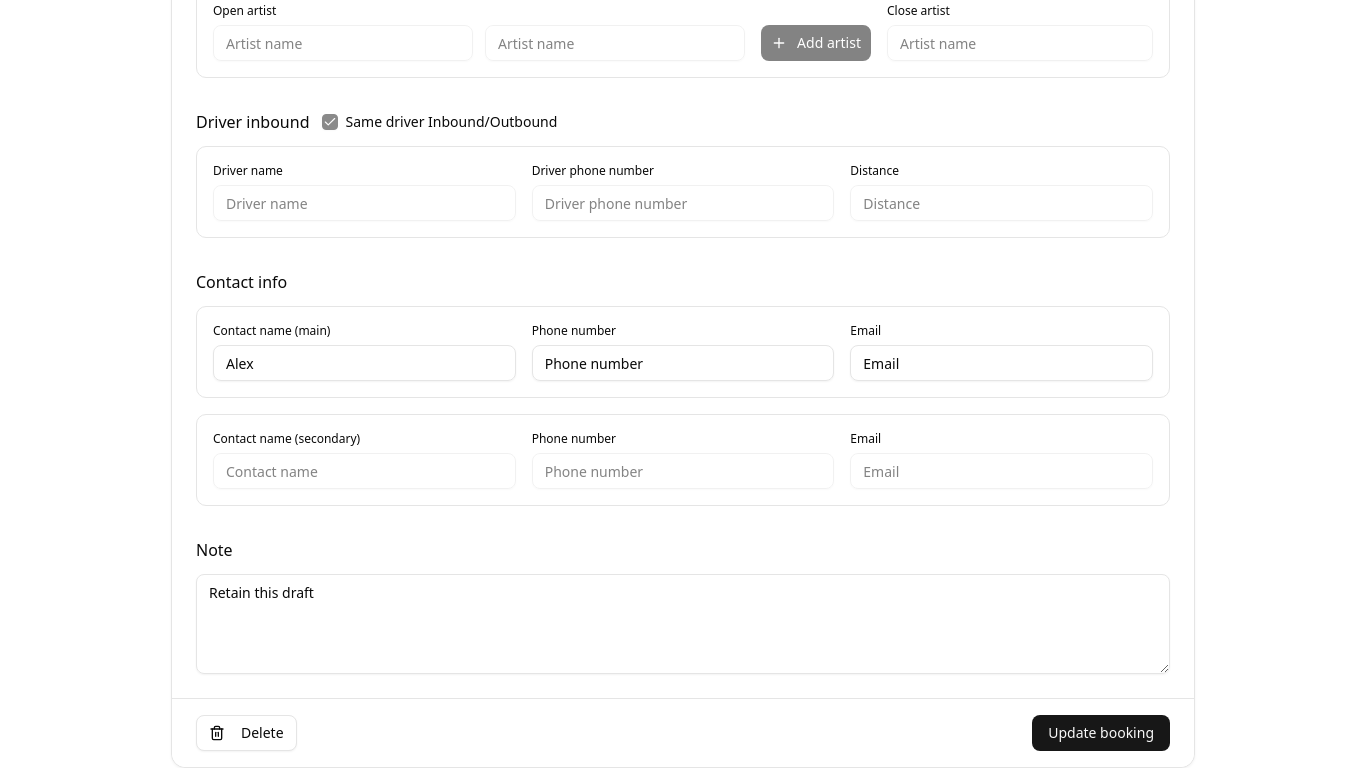
Test case: BB-11: handles returned delete failure, retains edits, and permits one retry
(page scrolled)
Replace the text in the text box labelled "Note" with "Unsaved operator draft": coordinates (683, 624) [196,574,1170,674]
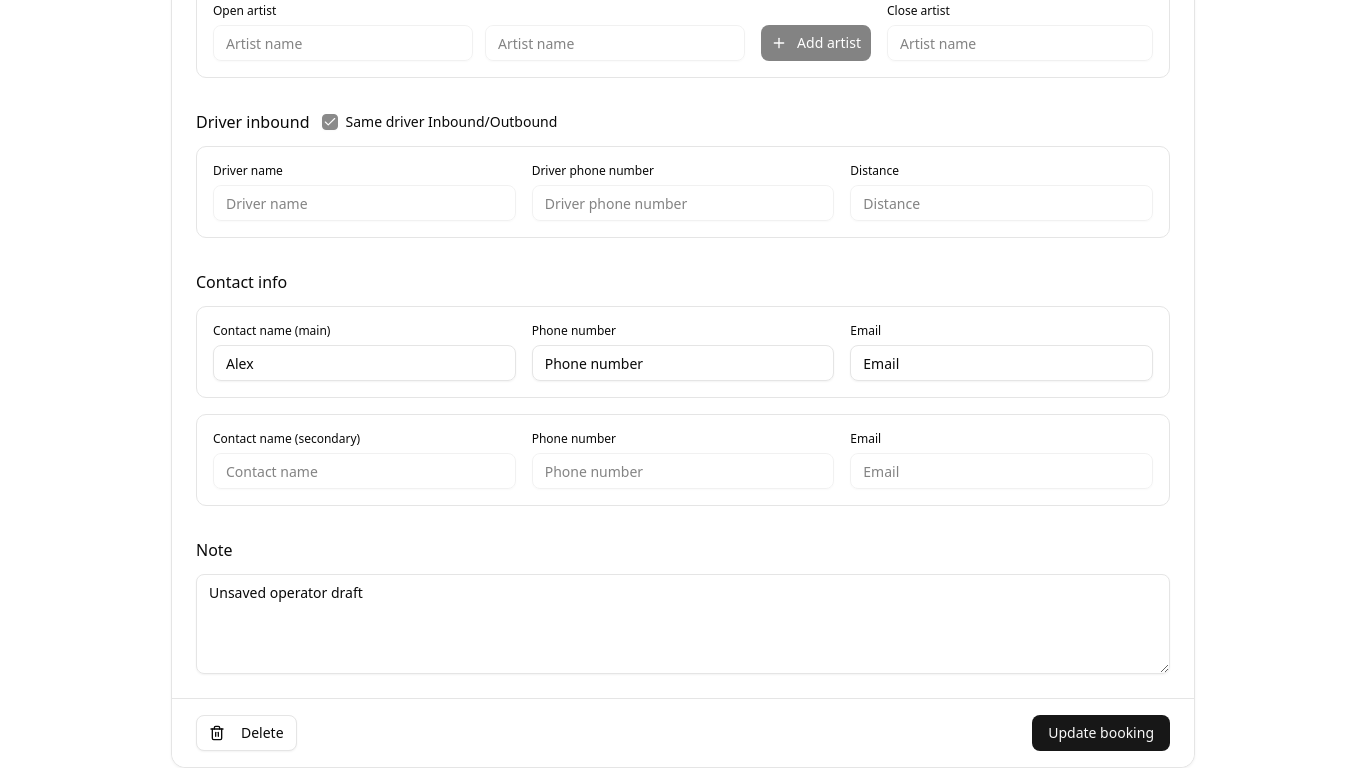
Click the button "Delete": coordinates (246, 733) [196,715,297,751]
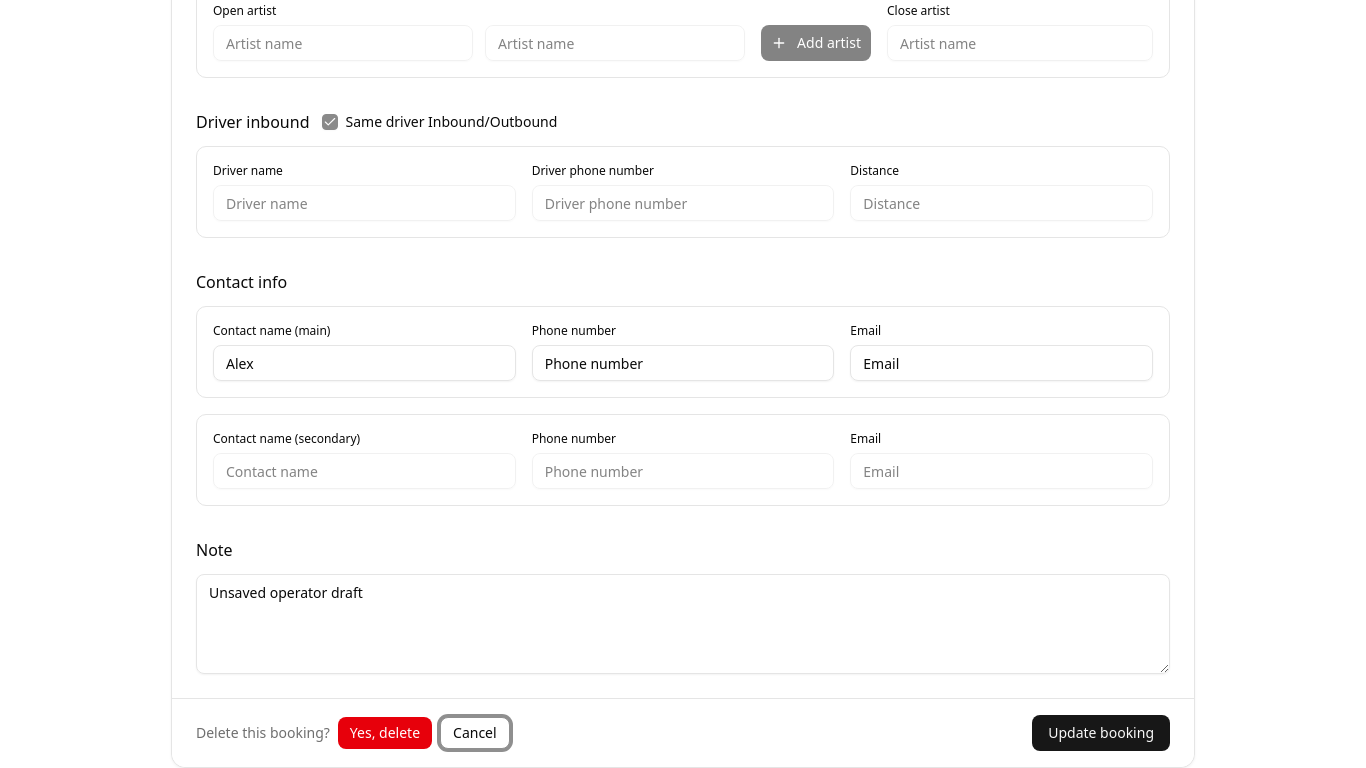
Click the button "Yes, delete": coordinates (385, 733) [338,717,432,749]
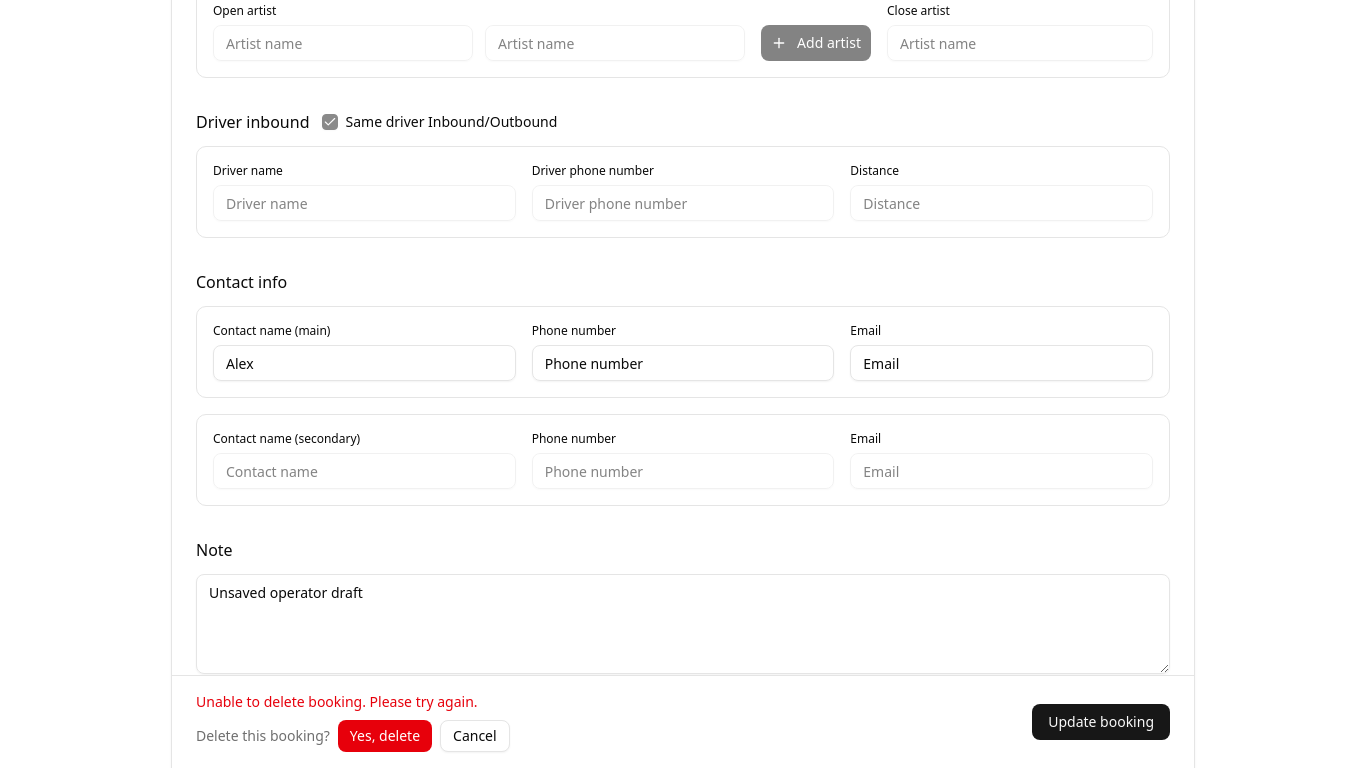
Now the button "Yes, delete" is enabled
Now the message shows "Unable to delete booking", box [196,692,478,711]
Click the button "Yes, delete": coordinates (385, 736) [338,720,432,752]
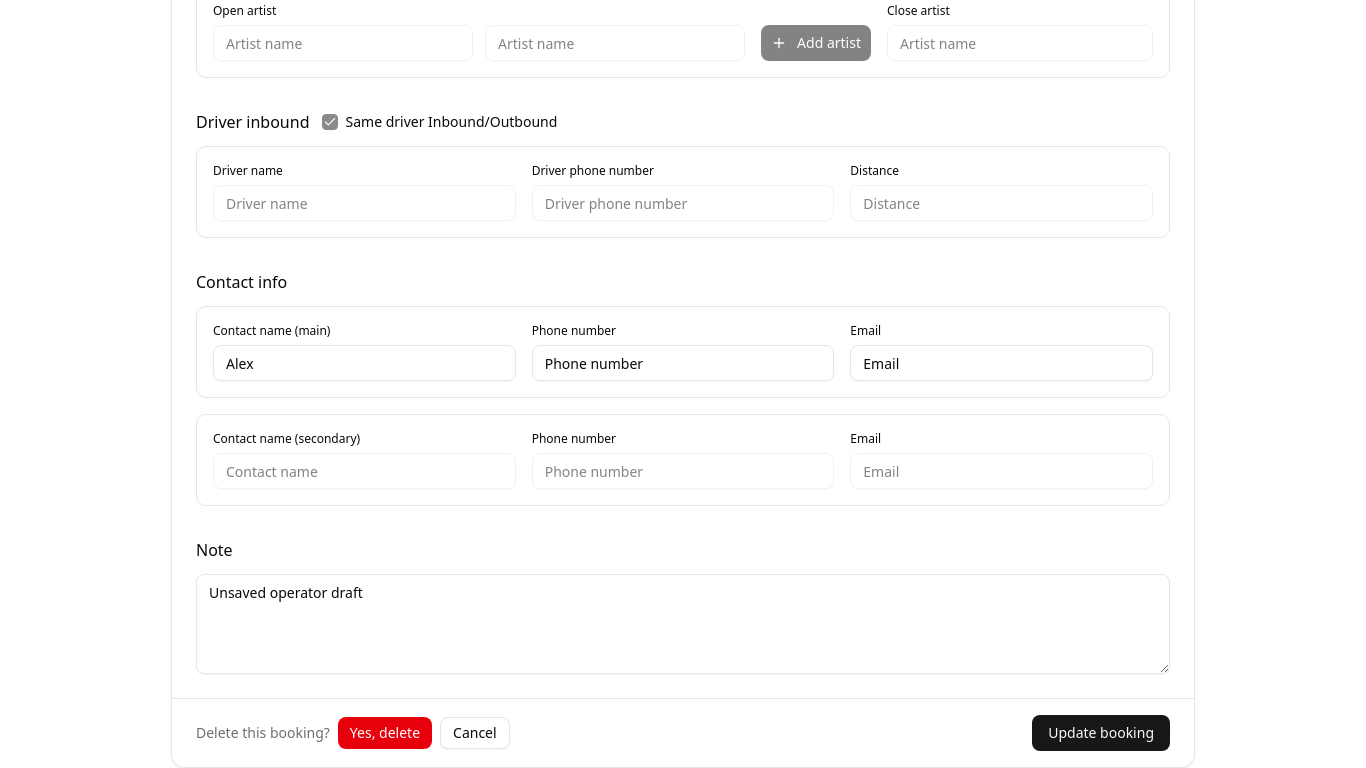
Now the message "Unable to delete booking. Please try again." is gone
